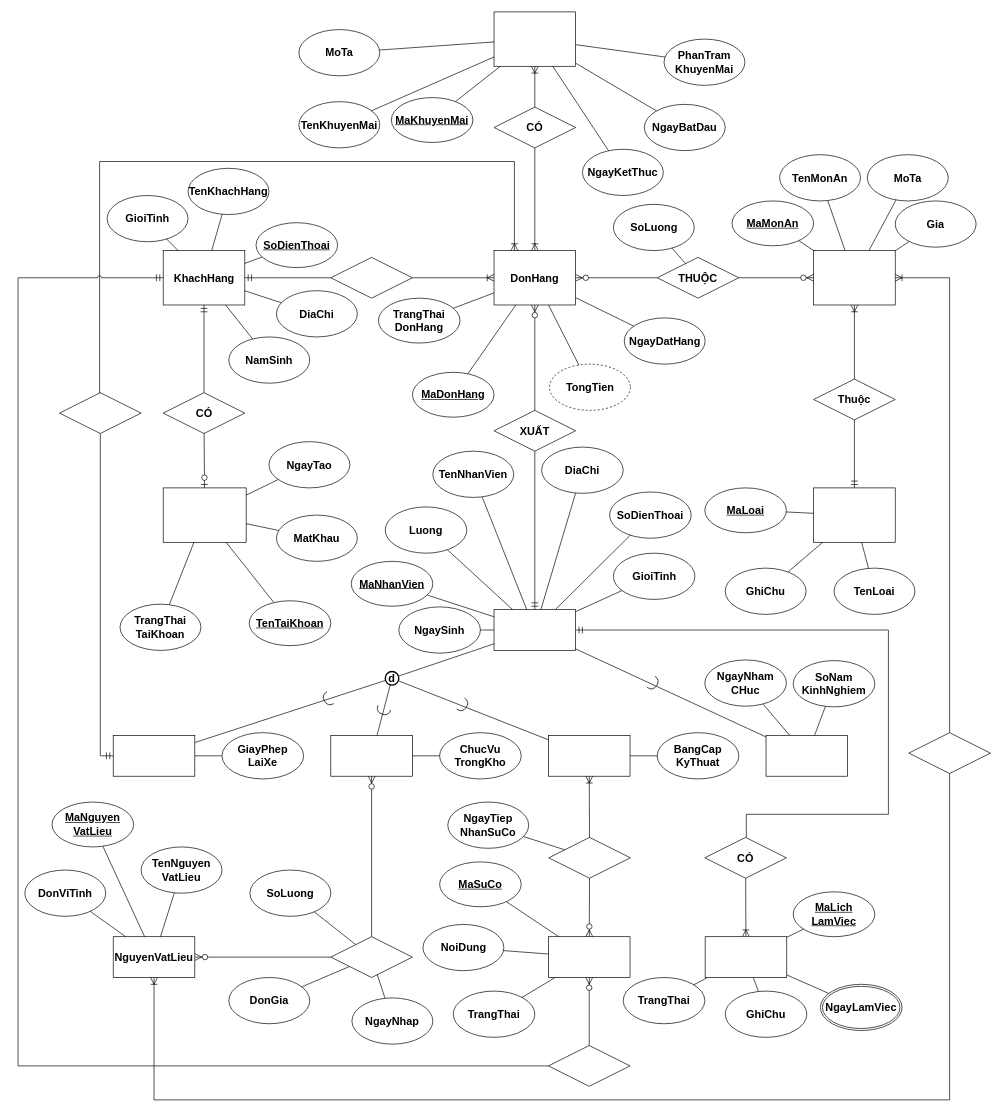
This 1002x1119 diagram has some shape labels left out. The centre of each missing label's shape, as x and y in pixels:
"GIAO" belongs at point (100, 413).
"KhuyenMai" belongs at point (534, 38).
"LichLamViec" belongs at point (745, 957).
"LoaiMonAn" belongs at point (854, 514).
"MonAn" belongs at point (854, 277).
"NhanVien" belongs at point (534, 629).
"NhanVien KyThuat" belongs at point (589, 755).
"NhanVien QuanLy" belongs at point (806, 755).
"NhanVien VanChuyen" belongs at point (154, 755).
"NhanVienKho" belongs at point (371, 755).
"NHẬP" belongs at point (371, 957).
"PHẢN HỒI" belongs at point (589, 1065).
"SuCO" belongs at point (589, 957).
"TaiKhoan KhachHang" belongs at point (204, 514).
"TIẾP NHẬN" belongs at point (589, 857).
"ĐƯỢC CHẾ BIẾN" belongs at point (949, 753).
"ĐẶT HÀNG" belongs at point (371, 277).
